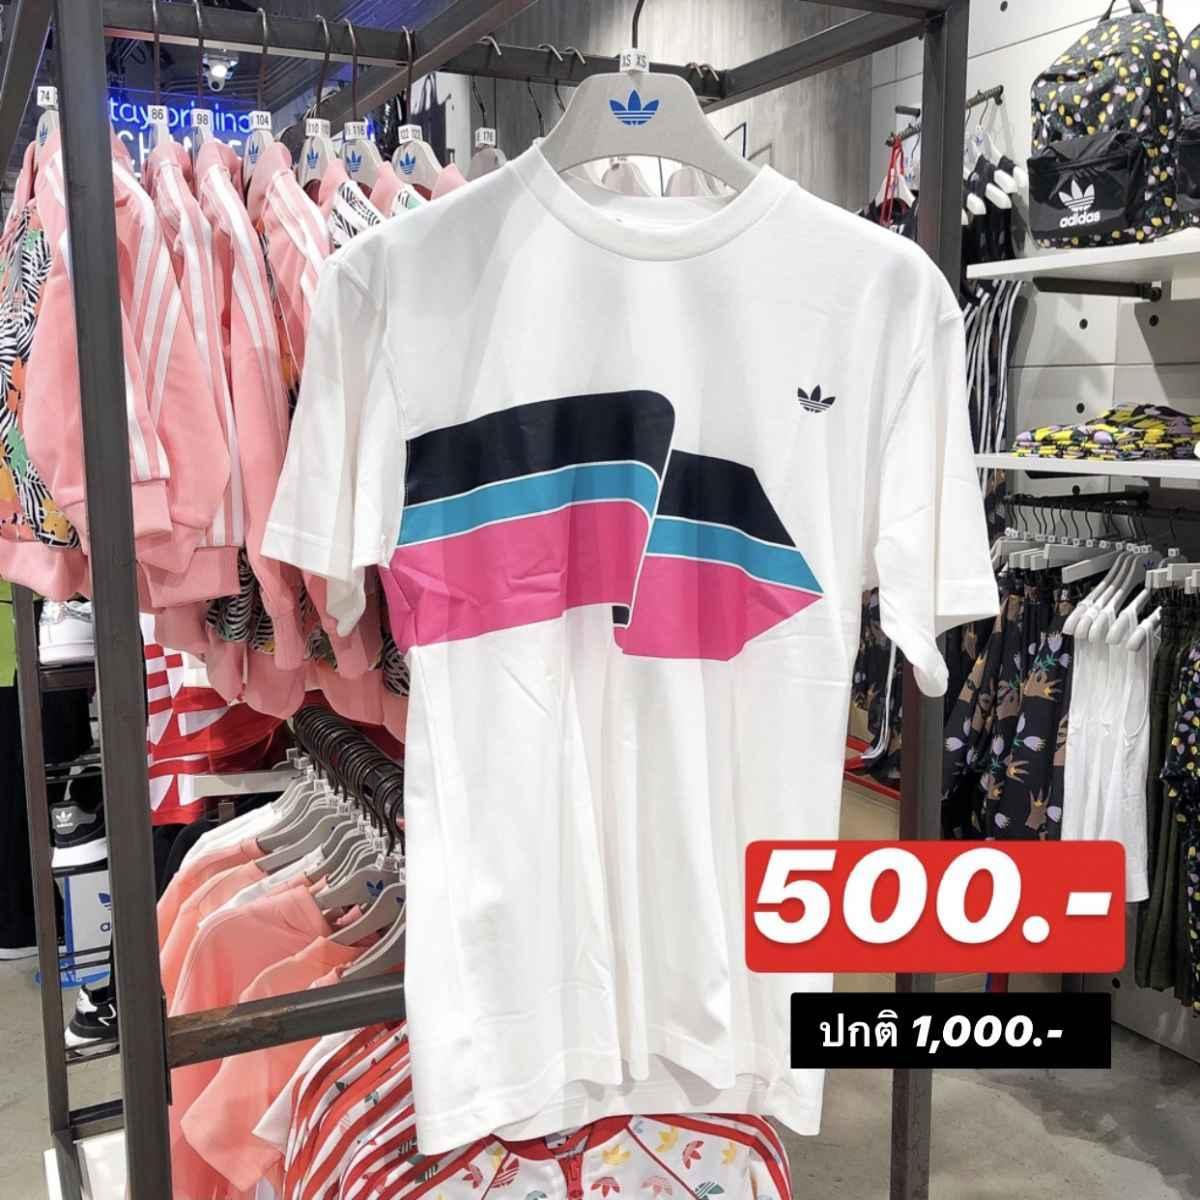Tshirt: (270, 166, 969, 1124)
